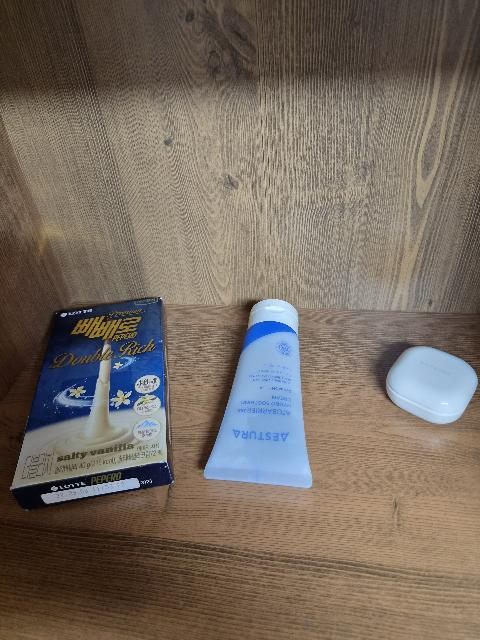earphone_case: (386, 346, 478, 424)
handcream: (204, 299, 313, 488)
pepero: (10, 297, 175, 511)
